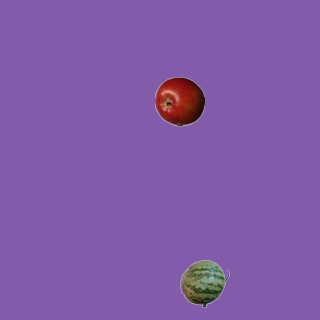Apple Braeburn: (154, 76, 204, 126)
Watermelon: (179, 258, 229, 308)
